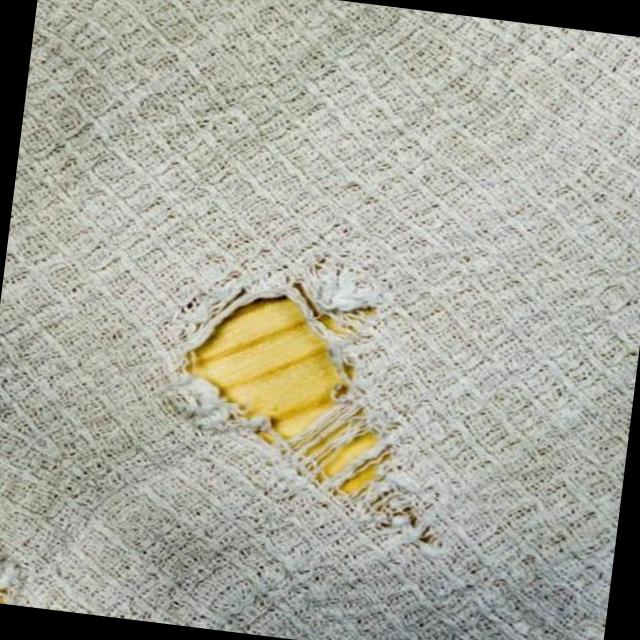cut: (167, 267, 460, 546)
